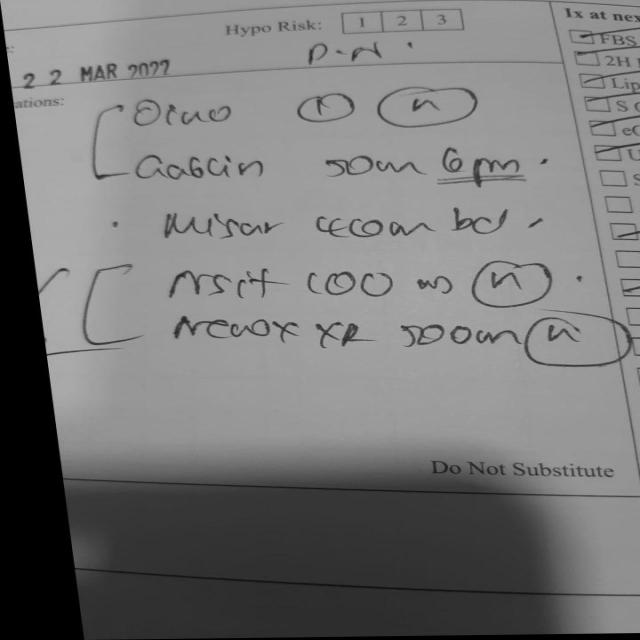Prescription: (123, 74, 503, 142), (121, 137, 529, 195), (155, 311, 580, 357), (157, 257, 562, 304), (150, 204, 507, 246)
